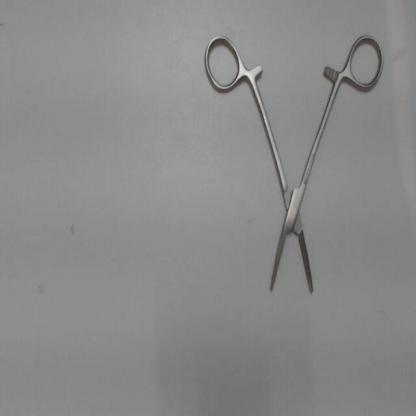Mayo Needle Holder: (200, 29, 390, 306)
